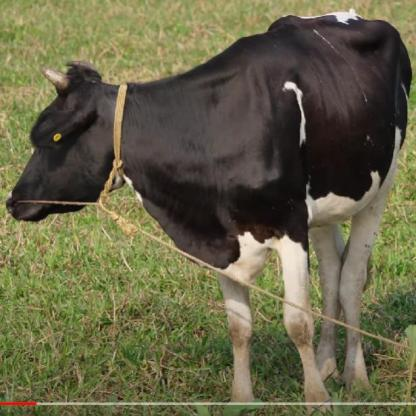cow: (4, 13, 412, 416)
